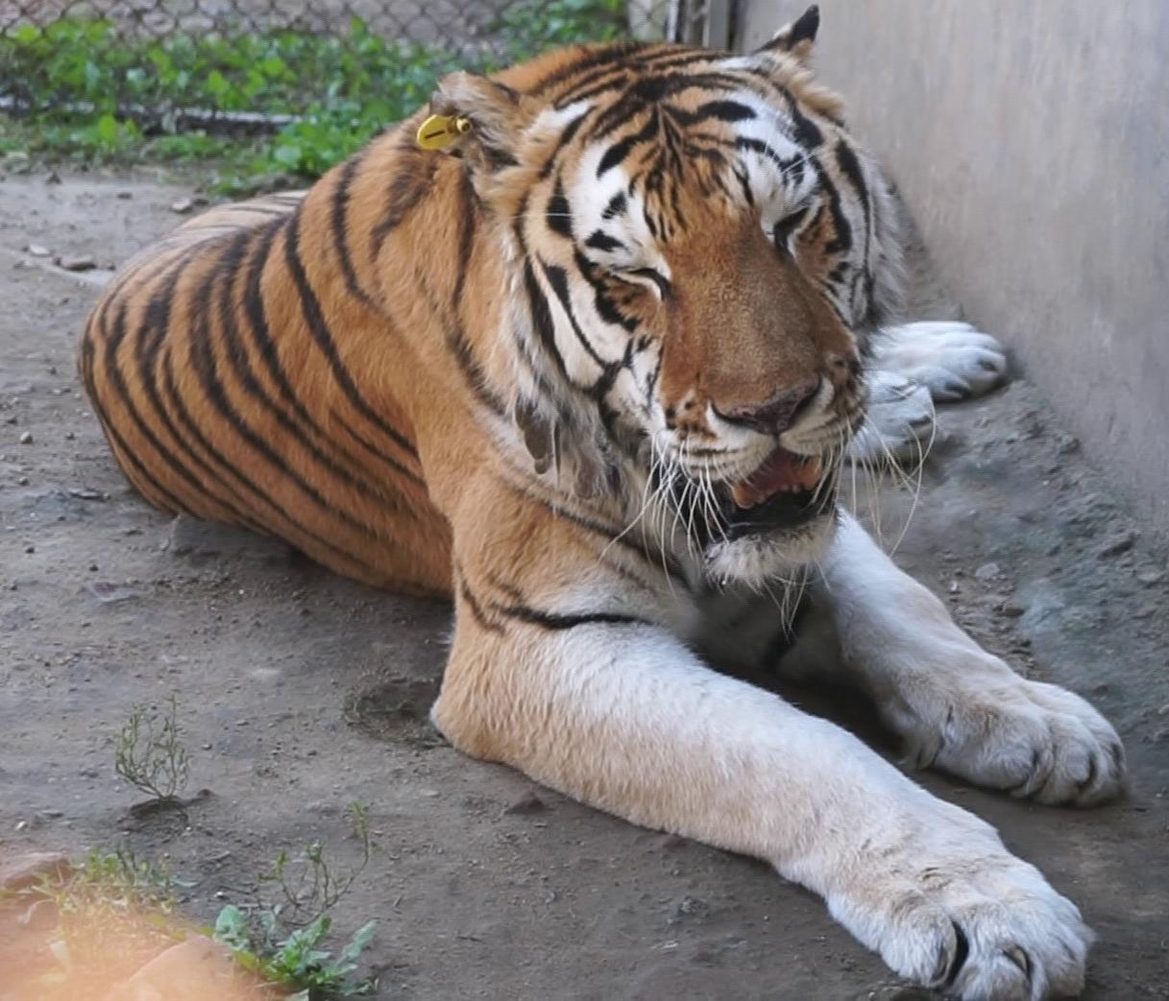tiger: (81, 9, 1124, 1000)
